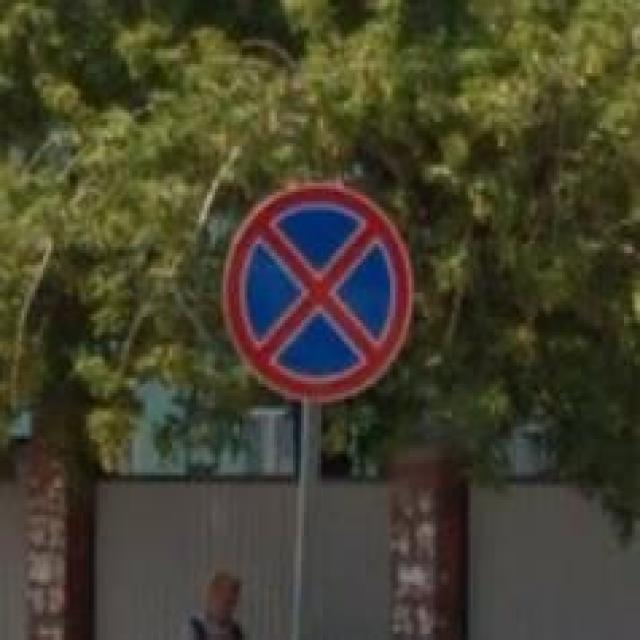Zakaz zatrzymywania sie: (223, 180, 414, 402)
